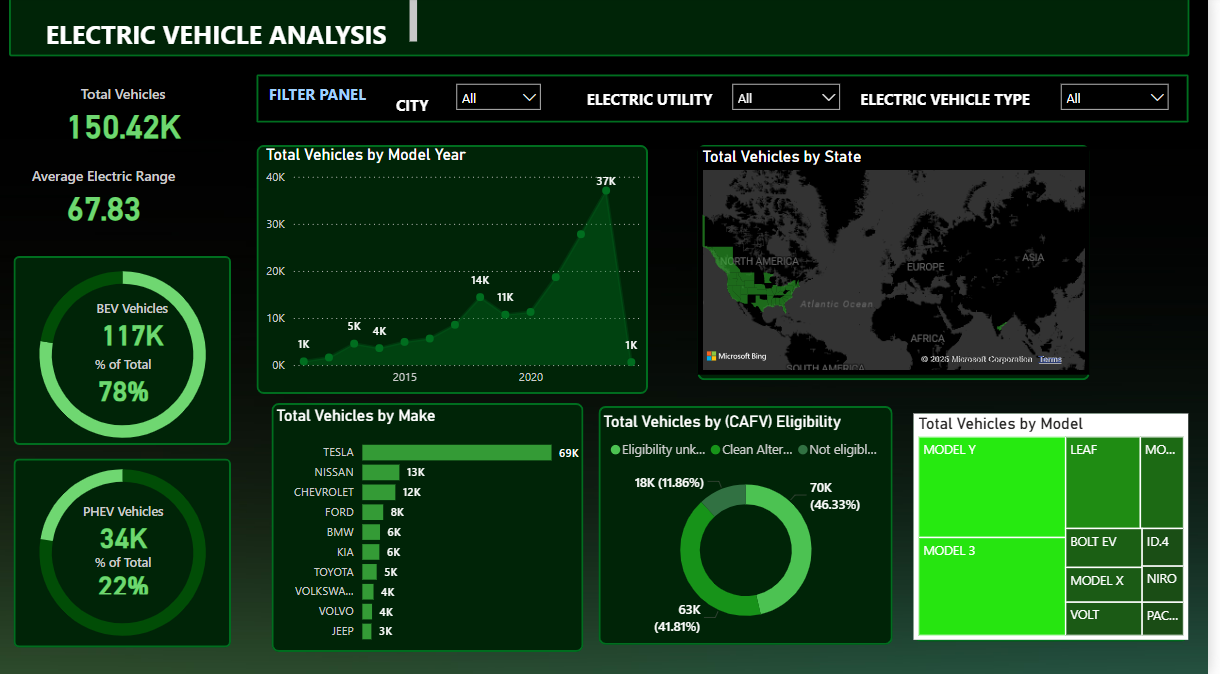

What the dashboard file says about the page in this screenshot:
{"tool":"powerbi","page":{"name":"Page 1","canvas":[1280,720],"ordinal":0},"visuals":[{"type":"shape","box":[9.5,0,1251.8,65.2],"z":0},{"type":"textbox","box":[43.5,0,404.4,66.1],"z":1000},{"type":"shape","box":[272,159.1,415.1,264],"z":2000},{"type":"card","title":"Total Vehicles ","fields":{"Values":["Electric_Vehicle_Population_Data.Total Vehicles"]},"box":[35,93.8,190.9,65.2],"z":3000},{"type":"card","title":"Average Electric Range","fields":{"Values":["Avg(Electric_Vehicle_Population_Data.Electric Range)"]},"box":[14.3,181.3,190.9,65.2],"z":4000},{"type":"shape","box":[14.3,276.8,230.6,200.4],"z":5000},{"type":"shape","box":[14.3,491.5,230.6,200.4],"z":6000},{"type":"donutChart","fields":{"Category":["Electric_Vehicle_Population_Data.Electric Vehicle Type"],"Y":["Electric_Vehicle_Population_Data.Total Vehicles"]},"box":[0,265.6,259.3,230.6],"z":7000},{"type":"card","title":"BEV Vehicles ","fields":{"Values":["Electric_Vehicle_Population_Data.BEV Vehicles"]},"box":[93.8,322.9,92.3,54.1],"z":8000},{"type":"card","title":"% of Total","fields":{"Values":["Electric_Vehicle_Population_Data.% of BEV"]},"box":[89.1,381.7,82.7,54.1],"z":9000},{"type":"donutChart","fields":{"Category":["Electric_Vehicle_Population_Data.Electric Vehicle Type"],"Y":["Electric_Vehicle_Population_Data.Total Vehicles"]},"box":[0,475.6,259.3,230.6],"z":10000},{"type":"card","title":"PHEV Vehicles ","fields":{"Values":["Electric_Vehicle_Population_Data.PHEV Vehicles"]},"box":[74.8,537.6,111.3,54.1],"z":11000},{"type":"card","title":"% of Total","fields":{"Values":["Electric_Vehicle_Population_Data.% of PHEV"]},"box":[71.6,591.7,117.7,49.3],"z":12000},{"type":"shape","box":[272.1,85,988.4,51],"z":13000},{"type":"areaChart","fields":{"Category":["Electric_Vehicle_Population_Data.Model Year"],"Y":["Electric_Vehicle_Population_Data.Total Vehicles"]},"box":[276.8,159.1,410.4,264],"z":14000},{"type":"shape","box":[738.9,158.7,415.8,249.5],"z":15000},{"type":"filledMap","fields":{"Category":["Electric_Vehicle_Population_Data.State"],"Y":["Electric_Vehicle_Population_Data.Total Vehicles"]},"box":[738.9,160.6,415.8,241.9],"z":16000},{"type":"shape","box":[635,436.5,311.8,253.2],"z":17000},{"type":"shape","box":[287.9,432.6,330.8,264],"z":18000},{"type":"barChart","fields":{"Category":["Electric_Vehicle_Population_Data.Make"],"Y":["Electric_Vehicle_Population_Data.Total Vehicles"]},"box":[287.2,436.5,330.7,260.8],"z":19000},{"type":"donutChart","title":"Total Vehicles by (CAFV) Eligibility","fields":{"Y":["Electric_Vehicle_Population_Data.Total Vehicles"],"Category":["Electric_Vehicle_Population_Data.Clean Alternative Fuel Vehicle (CAFV) Eligibility"]},"box":[635,442.2,311.8,243.8],"z":20000},{"type":"shape","box":[969.5,444.1,291,241.9],"z":21000},{"type":"treemap","fields":{"Group":["Electric_Vehicle_Population_Data.Model"],"Values":["Electric_Vehicle_Population_Data.Total Vehicles"]},"box":[969.5,444.1,291,240],"z":22000},{"type":"textbox","box":[24.6,0,404.4,66.1],"z":23000},{"type":"textbox","box":[275.9,88.8,122.8,37.8],"z":24000},{"type":"slicer","fields":{"Values":["Electric_Vehicle_Population_Data.City"]},"box":[474.3,85,109.6,43.5],"z":25000},{"type":"textbox","box":[398.7,100.2,75.6,37.8],"z":26000},{"type":"textbox","box":[602.8,94.5,172,37.8],"z":27000},{"type":"slicer","fields":{"Values":["Electric_Vehicle_Population_Data.Electric Utility"]},"box":[767.2,85,134.2,43.5],"z":28000},{"type":"slicer","fields":{"Values":["Electric_Vehicle_Population_Data.Electric Vehicle Type"]},"box":[1115,85,134.2,43.5],"z":29000},{"type":"textbox","box":[900.3,93.8,203.6,38.2],"z":30000}]}

Visuals, with their boxes in screenshot pixels (x1, y1, x2, y2), scaled from the page's 1280x720 canvas onto the 1220x674 screenshot:
shape: <box>9,0,1202,61</box>
textbox: <box>41,0,427,62</box>
shape: <box>259,149,655,396</box>
"Total Vehicles " card: <box>33,88,215,149</box>
"Average Electric Range" card: <box>14,170,196,231</box>
shape: <box>14,259,233,447</box>
shape: <box>14,460,233,648</box>
donutChart - Electric_Vehicle_Population_Data.Electric Vehicle Type x Electric_Vehicle_Population_Data.Total Vehicles: <box>0,249,247,464</box>
"BEV Vehicles " card: <box>89,302,177,353</box>
"% of Total" card: <box>85,357,164,408</box>
donutChart - Electric_Vehicle_Population_Data.Electric Vehicle Type x Electric_Vehicle_Population_Data.Total Vehicles: <box>0,445,247,661</box>
"PHEV Vehicles " card: <box>71,503,177,554</box>
"% of Total" card: <box>68,554,180,600</box>
shape: <box>259,80,1201,127</box>
areaChart - Electric_Vehicle_Population_Data.Model Year x Electric_Vehicle_Population_Data.Total Vehicles: <box>264,149,655,396</box>
shape: <box>704,149,1101,382</box>
filledMap - Electric_Vehicle_Population_Data.State x Electric_Vehicle_Population_Data.Total Vehicles: <box>704,150,1101,377</box>
shape: <box>605,409,902,646</box>
shape: <box>274,405,590,652</box>
barChart - Electric_Vehicle_Population_Data.Make x Electric_Vehicle_Population_Data.Total Vehicles: <box>274,409,589,653</box>
"Total Vehicles by (CAFV) Eligibility" donutChart: <box>605,414,902,642</box>
shape: <box>924,416,1201,642</box>
treemap - Electric_Vehicle_Population_Data.Model x Electric_Vehicle_Population_Data.Total Vehicles: <box>924,416,1201,640</box>
textbox: <box>23,0,409,62</box>
textbox: <box>263,83,380,119</box>
slicer - Electric_Vehicle_Population_Data.City: <box>452,80,557,120</box>
textbox: <box>380,94,452,129</box>
textbox: <box>575,88,738,124</box>
slicer - Electric_Vehicle_Population_Data.Electric Utility: <box>731,80,859,120</box>
slicer - Electric_Vehicle_Population_Data.Electric Vehicle Type: <box>1063,80,1191,120</box>
textbox: <box>858,88,1052,124</box>
